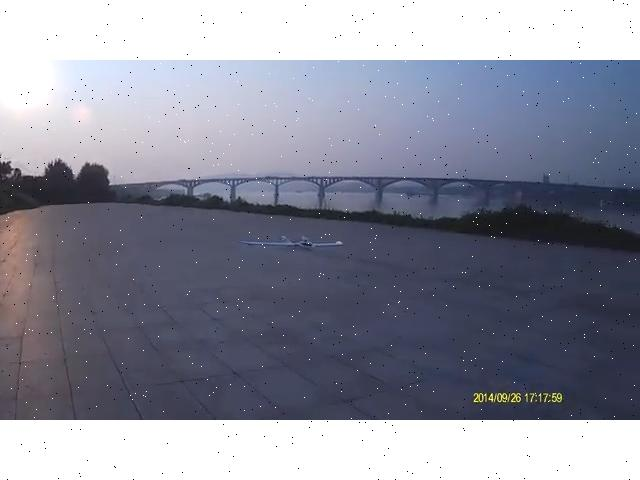Anti-Drone: (241, 220, 351, 260)
